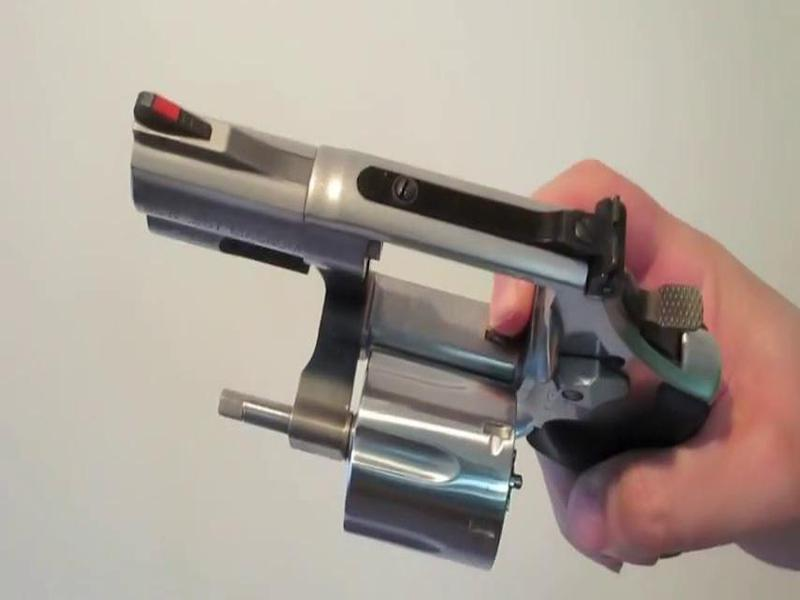Revolver: (101, 70, 754, 570)
